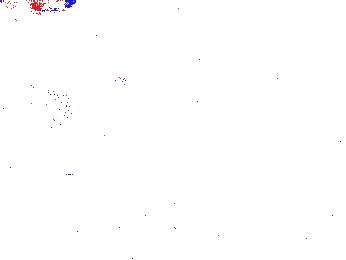X-ray fish: (28, 82, 75, 124)
glassfish: (192, 51, 294, 109)
red belly glassfish: (89, 66, 129, 88)
redtail glassfish: (1, 1, 79, 16)
